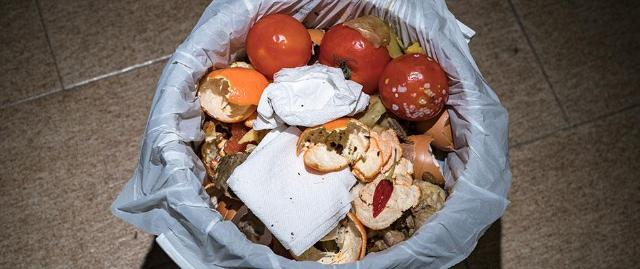Garbage: (188, 6, 459, 269)
